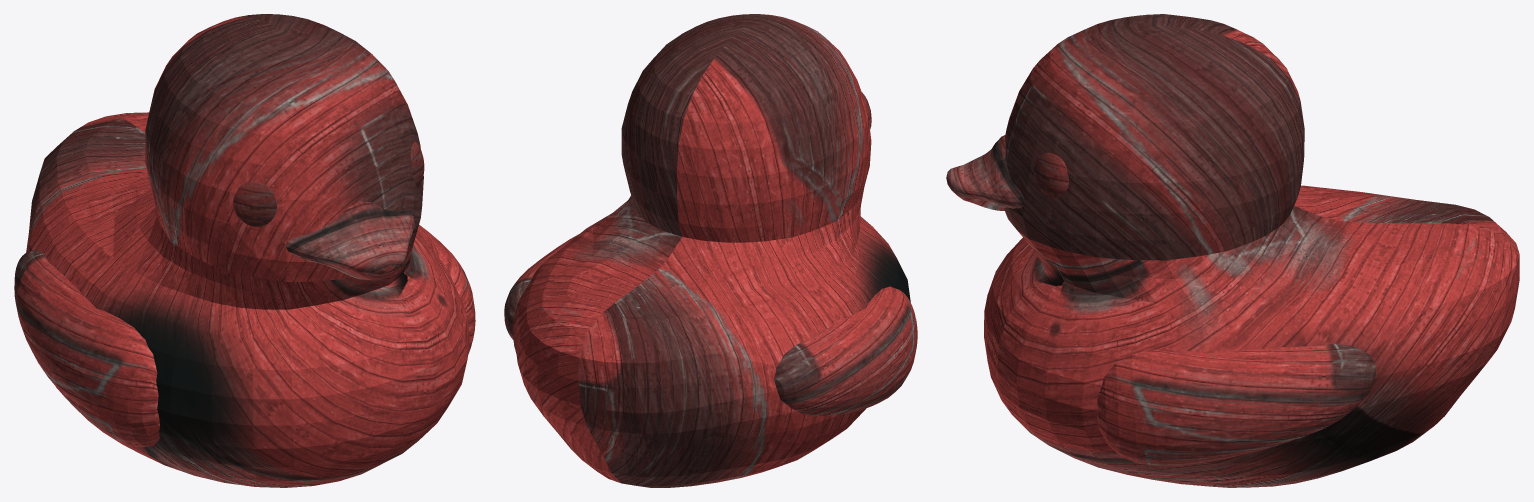
File: duck.obj
3 views of the same model, side by side, from view 1: azimuth 30°, elevation 25°; view 2: azimuth 150°, elevation 25°; view 3: azimuth 270°, elevation 25° (orthographic). The views are drawn at different scales.
Size of the model in its own units: 272 by 297 by 354.
